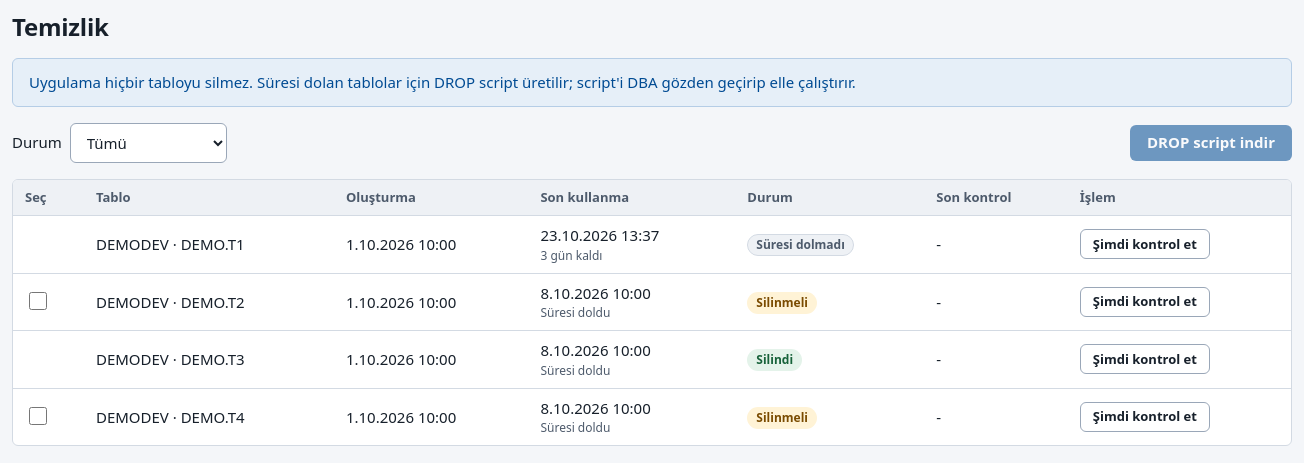
Test: Cleanup › durum filtresi
This screenshot has width=1304, height=463.
Expected: the text "DEMODEV · DEMO.T1" is shown, [84,216,334,274]
Select "Silindi" in the dropdown labelled "Durum": (148, 142) [70,122,227,162]
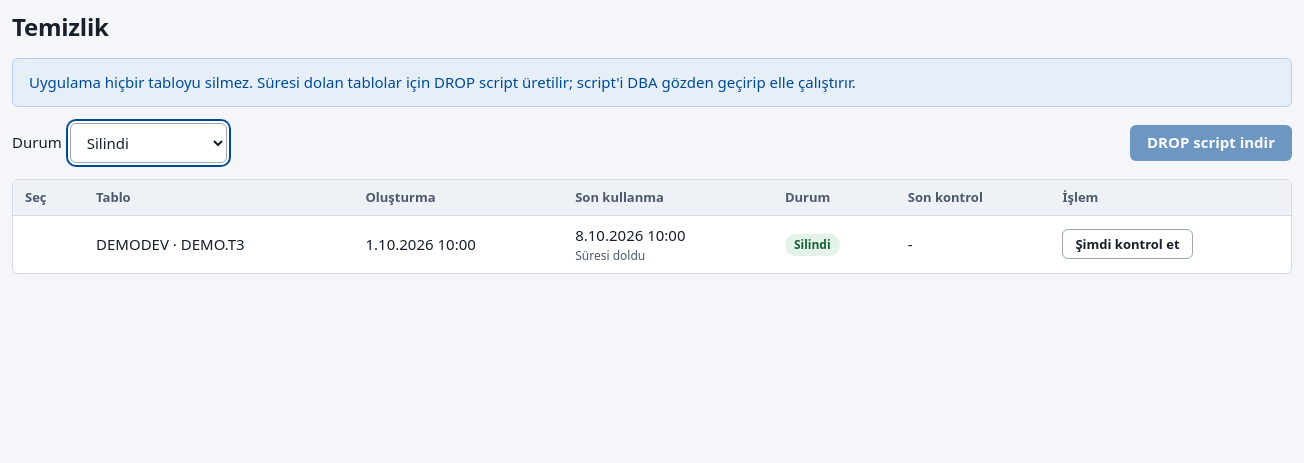
Expected: the text "DEMODEV · DEMO.T3" is shown, [84,216,354,272]
Result: the text "DEMODEV · DEMO.T1" is gone
